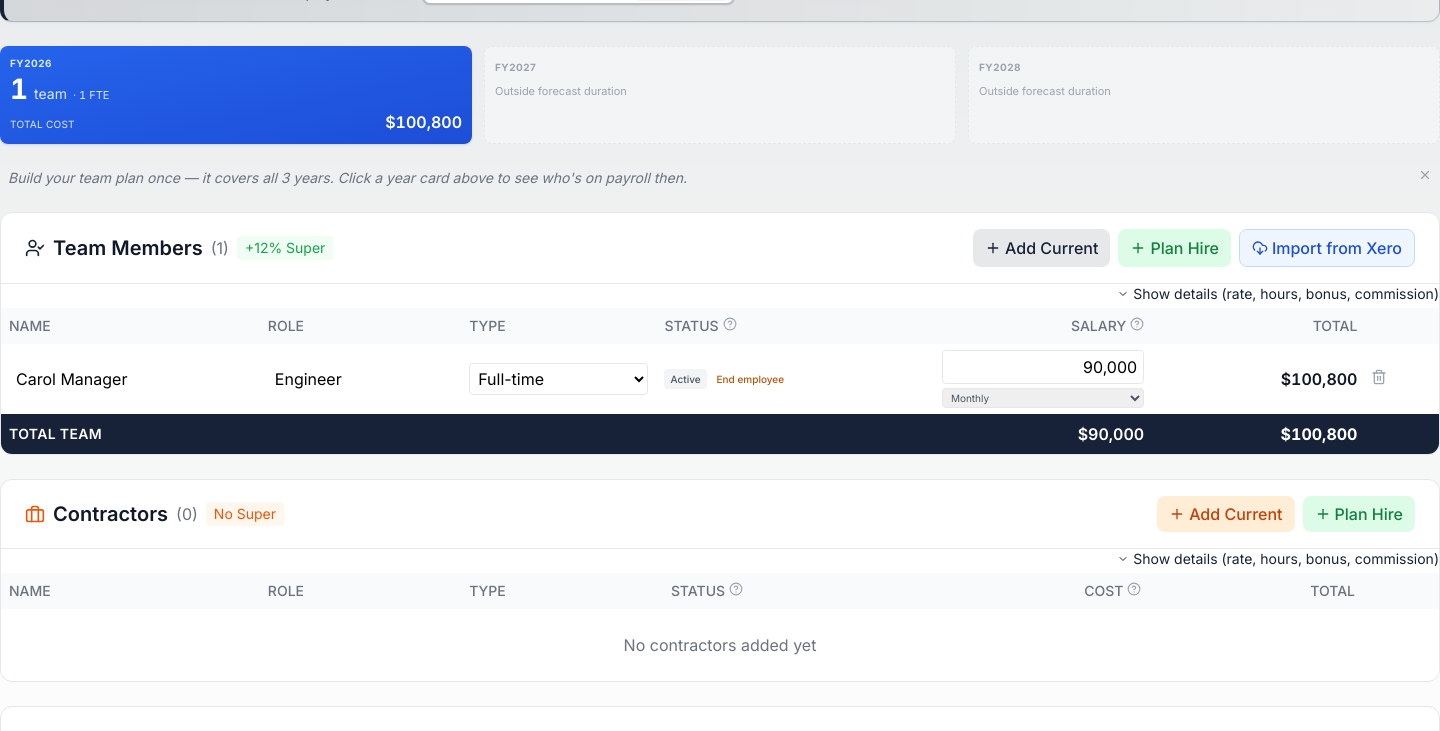
Test: UX-S4-01 — Step 4 end-employee termination flow › Test 3: Cancel closes the termination modal WITHOUT creating a Departure
This screenshot has width=1440, height=731.
(page scrolled)
Step 1. Click the button with aria-label "End employee Carol Manager" → (750, 379), box [711,365,790,393]
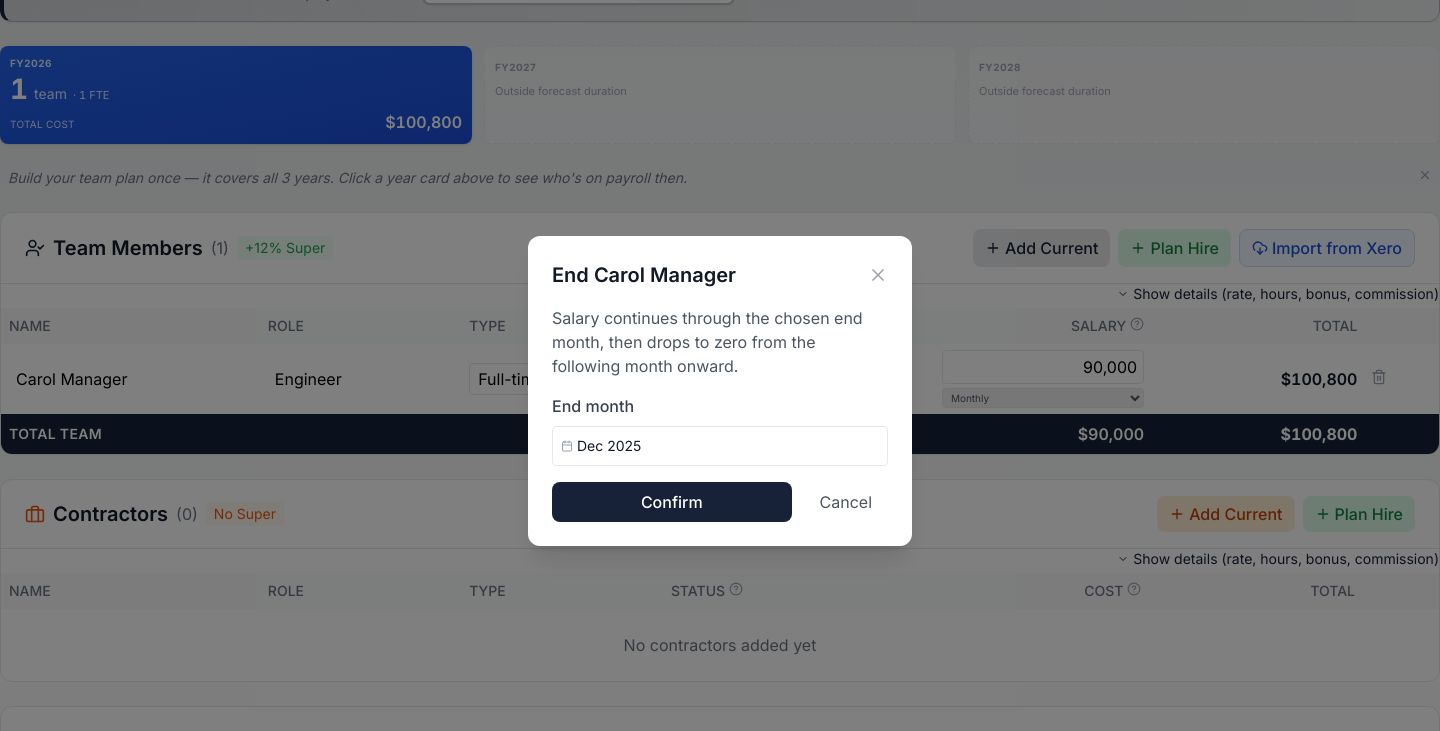
Note: Modal open — find Cancel button.
Step 2. Click the button "Cancel" → (846, 502), box [804,482,888,522]
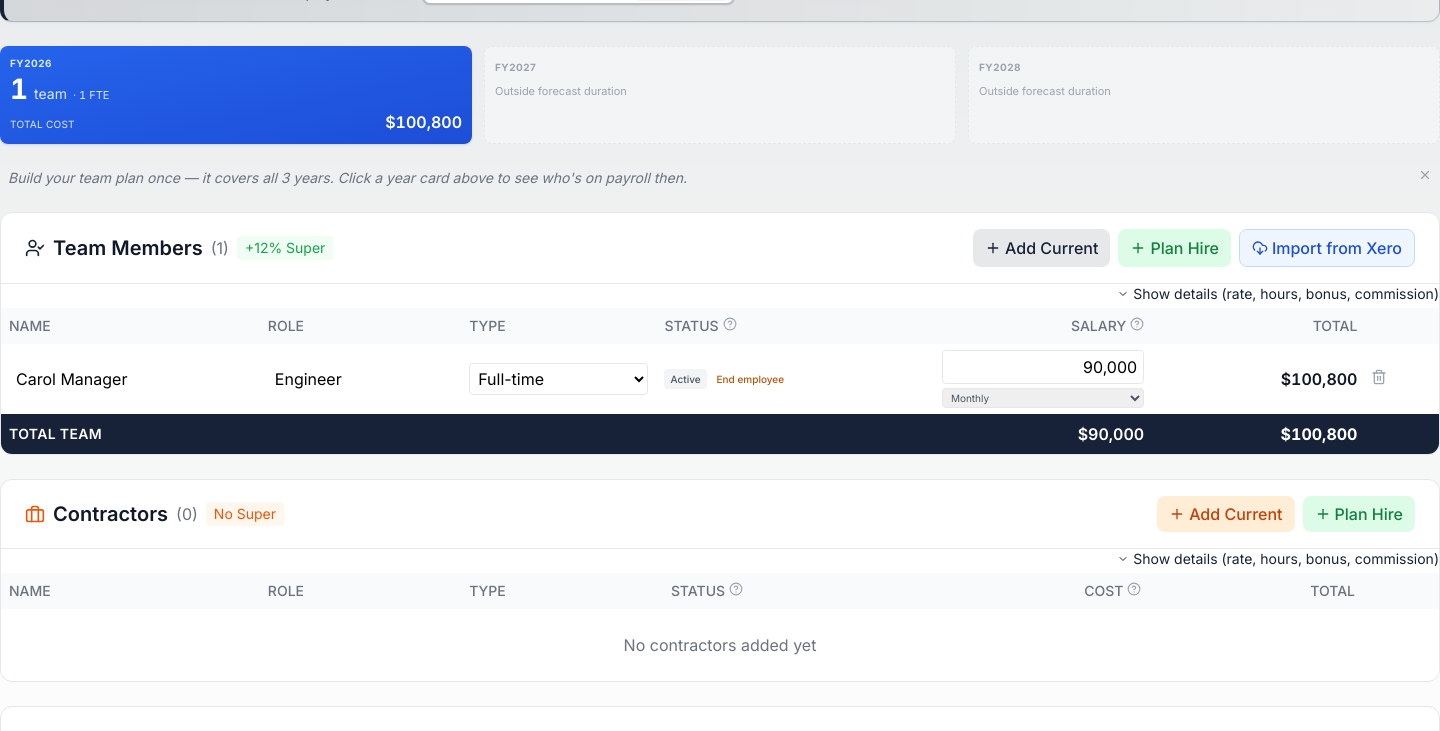
Expected: the heading "End Carol Manager" is gone
